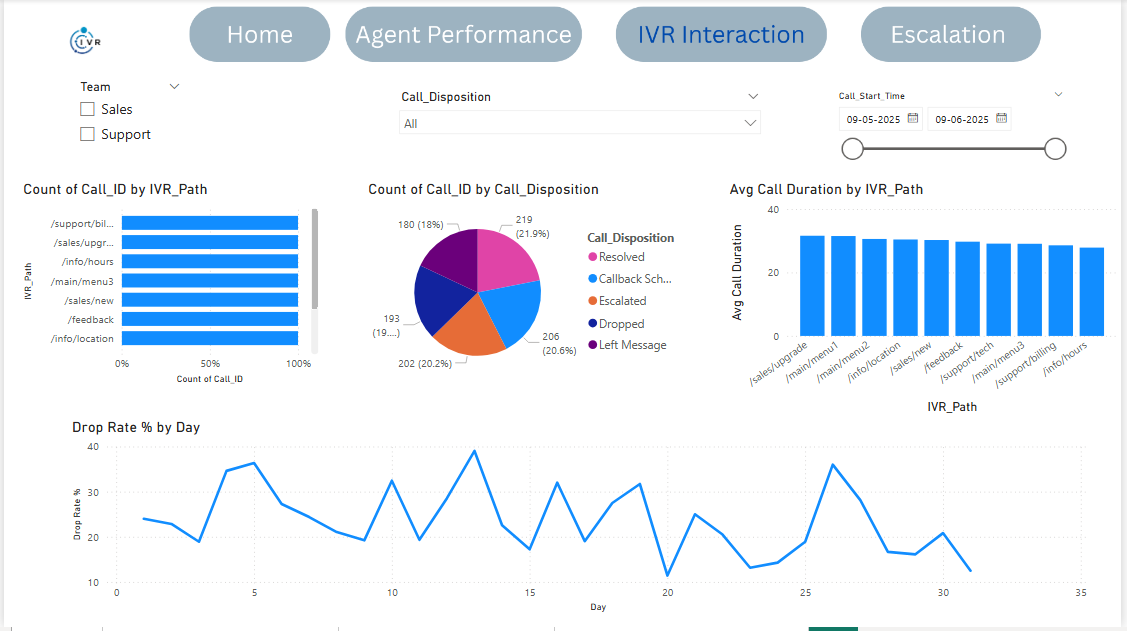

What the dashboard file says about the page in this screenshot:
{"tool":"powerbi","page":{"name":"IVR Interaction Behavior","canvas":[1280,720],"ordinal":2},"visuals":[{"type":"hundredPercentStackedBarChart","fields":{"Category":["ivr call_data.IVR_Path"],"Y":["CountNonNull(ivr call_data.Call_ID)"]},"box":[17,208,348,238.3],"z":0},{"type":"pieChart","fields":{"Category":["ivr call_data.Call_Disposition"],"Y":["CountNonNull(ivr call_data.Call_ID)"]},"box":[412.3,208,368.8,238.3],"z":1000},{"type":"columnChart","fields":{"Category":["ivr call_data.IVR_Path"],"Y":["ivr agent_details.Avg Call Duration"]},"box":[826.5,208,453.9,272.3],"z":2000},{"type":"lineChart","fields":{"Category":["ivr call_data.Call_Start_Time.Variation.Date Hierarchy.Day"],"Y":["ivr agent_details.Drop Rate %"]},"box":[72.9,480.1,1175.7,228.2],"z":3000},{"type":"slicer","fields":{"Values":["ivr call_data.Call_Start_Time"]},"box":[943.7,98.3,281.8,109.7],"z":4000},{"type":"slicer","fields":{"Values":["ivr call_data.Call_Disposition"]},"box":[442.6,98.3,435,66.2],"z":5000},{"type":"slicer","fields":{"Values":["ivr agent_details.Team"]},"box":[73.8,87,140,90.8],"z":5001},{"type":"image","box":[22.7,11.3,138.1,71.9],"z":5002},{"type":"actionButton","box":[230.7,11.3,124.8,49.2],"z":5003},{"type":"actionButton","box":[996.7,11.3,179.7,49.2],"z":5004},{"type":"actionButton","box":[425.5,11.3,213.7,49.2],"z":5005},{"type":"actionButton","box":[707.3,11.3,230.7,49.2],"z":5006}]}

Visuals, with their boxes in screenshot pixels (x1, y1, x2, y2), scaled from the page's 1280x720 canvas onto the 1127x631 screenshot:
hundredPercentStackedBarChart - ivr call_data.IVR_Path x CountNonNull(ivr call_data.Call_ID): left=15, top=182, right=321, bottom=391
pieChart - ivr call_data.Call_Disposition x CountNonNull(ivr call_data.Call_ID): left=363, top=182, right=688, bottom=391
columnChart - ivr call_data.IVR_Path x ivr agent_details.Avg Call Duration: left=728, top=182, right=1126, bottom=421
lineChart - ivr call_data.Call_Start_Time.Variation.Date Hierarchy.Day x ivr agent_details.Drop Rate %: left=64, top=421, right=1099, bottom=621
slicer - ivr call_data.Call_Start_Time: left=831, top=86, right=1079, bottom=182
slicer - ivr call_data.Call_Disposition: left=390, top=86, right=773, bottom=144
slicer - ivr agent_details.Team: left=65, top=76, right=188, bottom=156
image: left=20, top=10, right=142, bottom=73
actionButton: left=203, top=10, right=313, bottom=53
actionButton: left=878, top=10, right=1036, bottom=53
actionButton: left=375, top=10, right=563, bottom=53
actionButton: left=623, top=10, right=826, bottom=53
